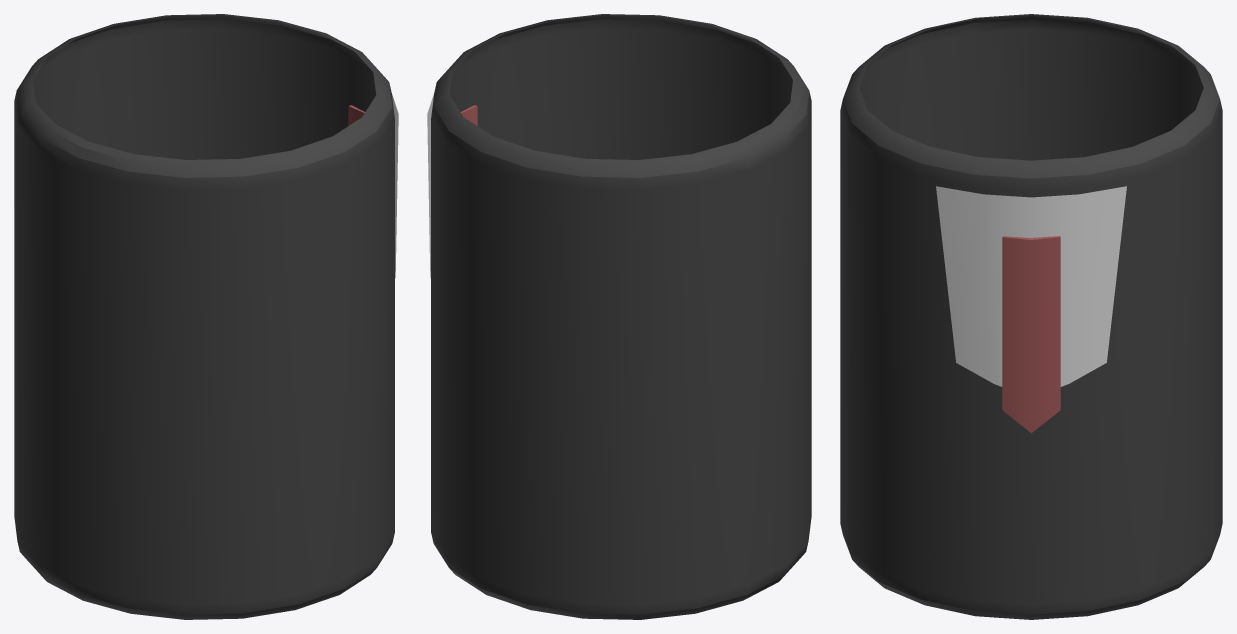
The model's file is Tux.fbx.
3 renders of one model, left to right at view 1: azimuth 30°, elevation 25°; view 2: azimuth 150°, elevation 25°; view 3: azimuth 270°, elevation 25°, orthographic.
Visible parts, largest first — view 1: pCylinder2; view 2: pCylinder2; view 3: pCylinder2.
Boxes of the visible parts, x1,y1,x2,y2 form: pCylinder2: (14,14,398,619); pCylinder2: (427,14,811,619); pCylinder2: (840,14,1222,619).
Size of the model in its own units: 2.05 by 2.65 by 2.
